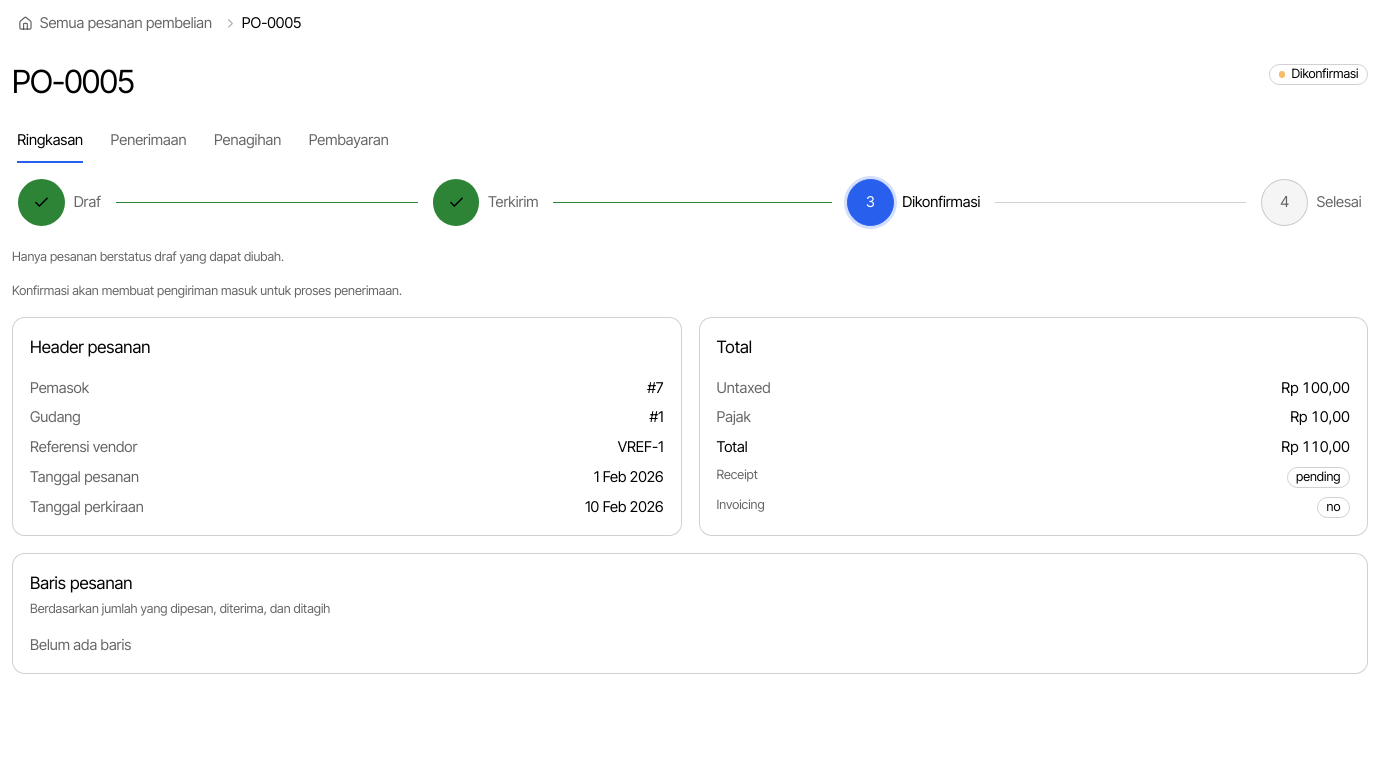
Test: PurchaseOrderDetail branches2 › shows empty lines and empty billable branches
Check: the text "Belum ada baris" is shown, box [30, 636, 131, 654]
What coordinates should you click on to do the following:
click the tab "Penagihan"
I would click on:
 (248, 141)
Its box is [213, 117, 282, 164].
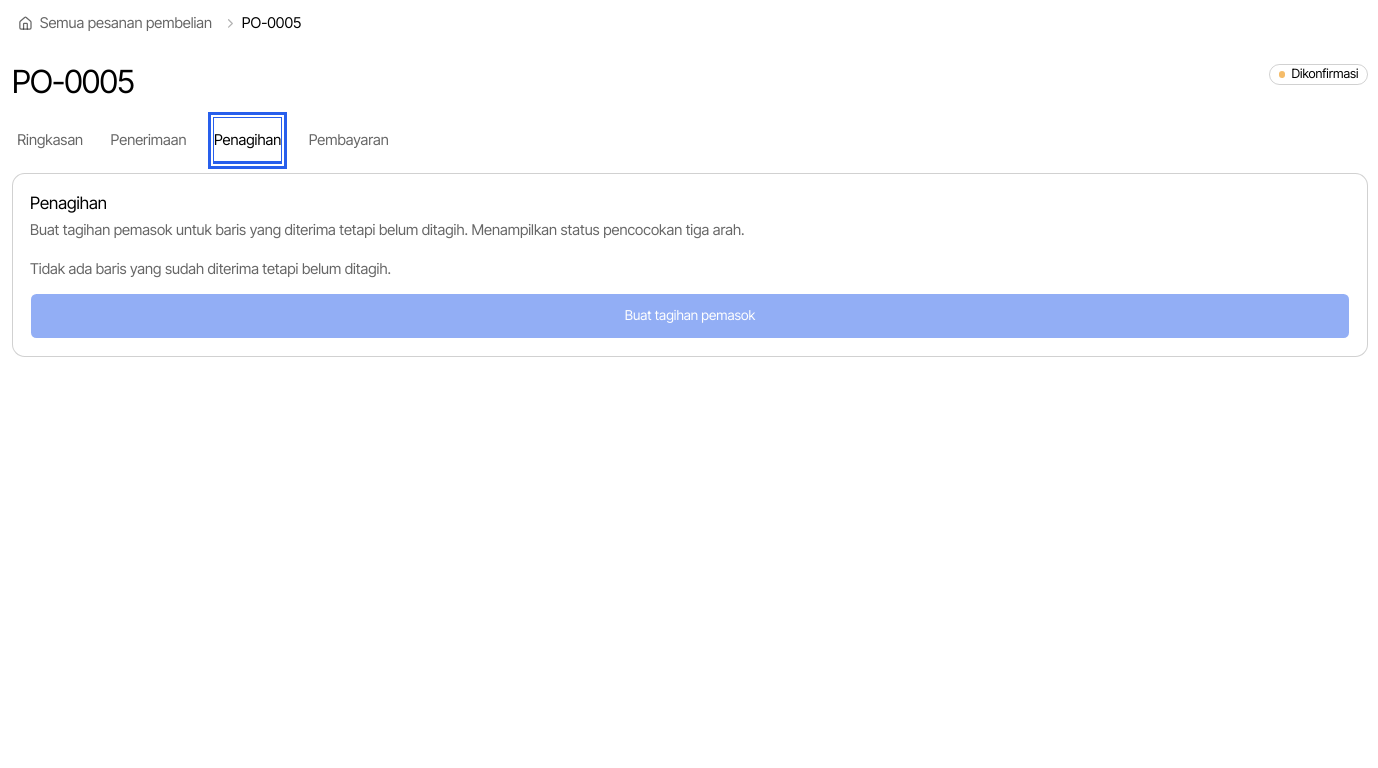
Check: the text "Tidak ada baris yang sudah diterima tetapi belum ditagih." is shown, box [30, 260, 391, 278]
